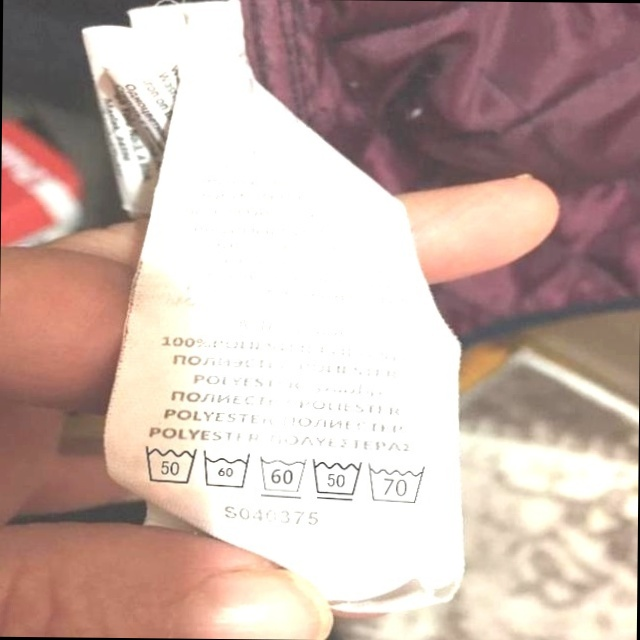50C: (138, 438, 201, 489), (309, 455, 366, 504)
60C: (257, 451, 311, 500), (200, 447, 255, 493)
70C: (367, 460, 432, 506)
